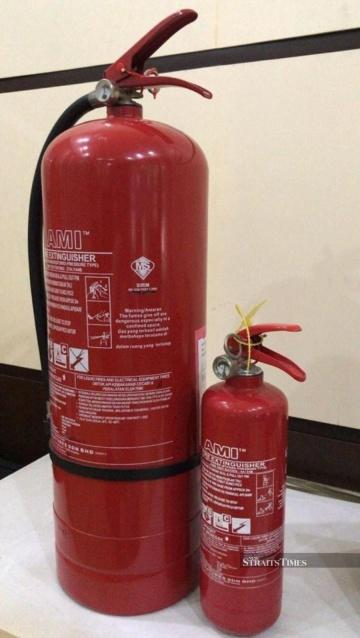APAR: (39, 8, 210, 616), (201, 320, 305, 635)
